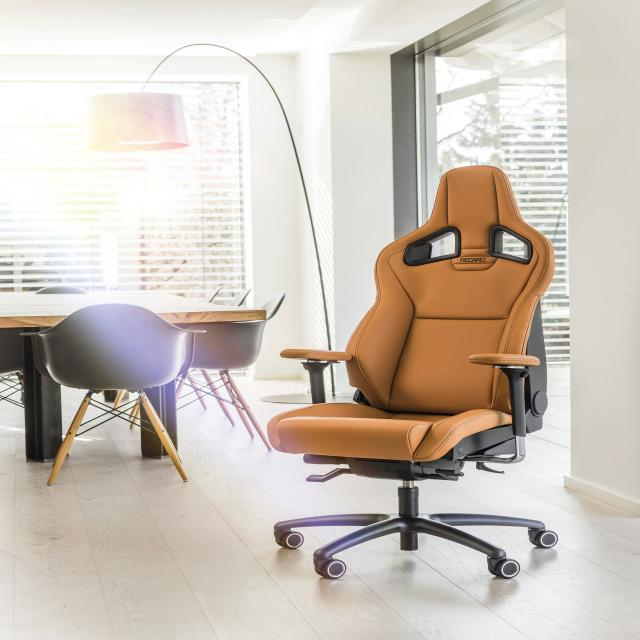chair: (266, 164, 558, 579), (20, 302, 206, 485)
